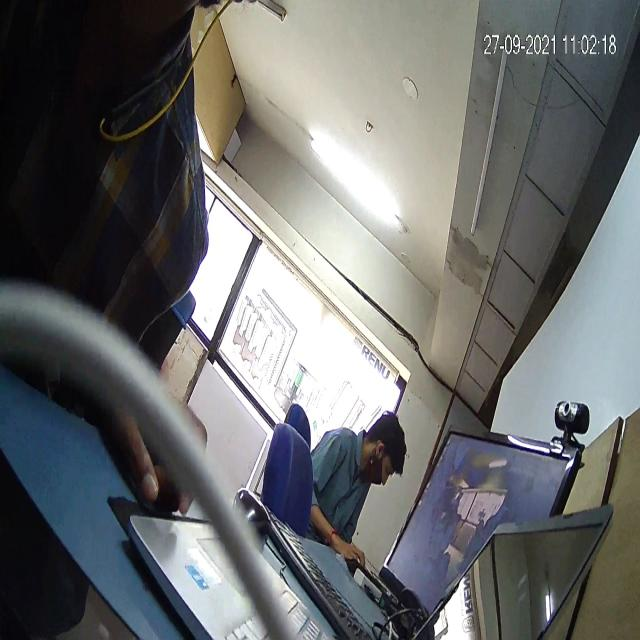adult: (300, 385, 420, 595)
